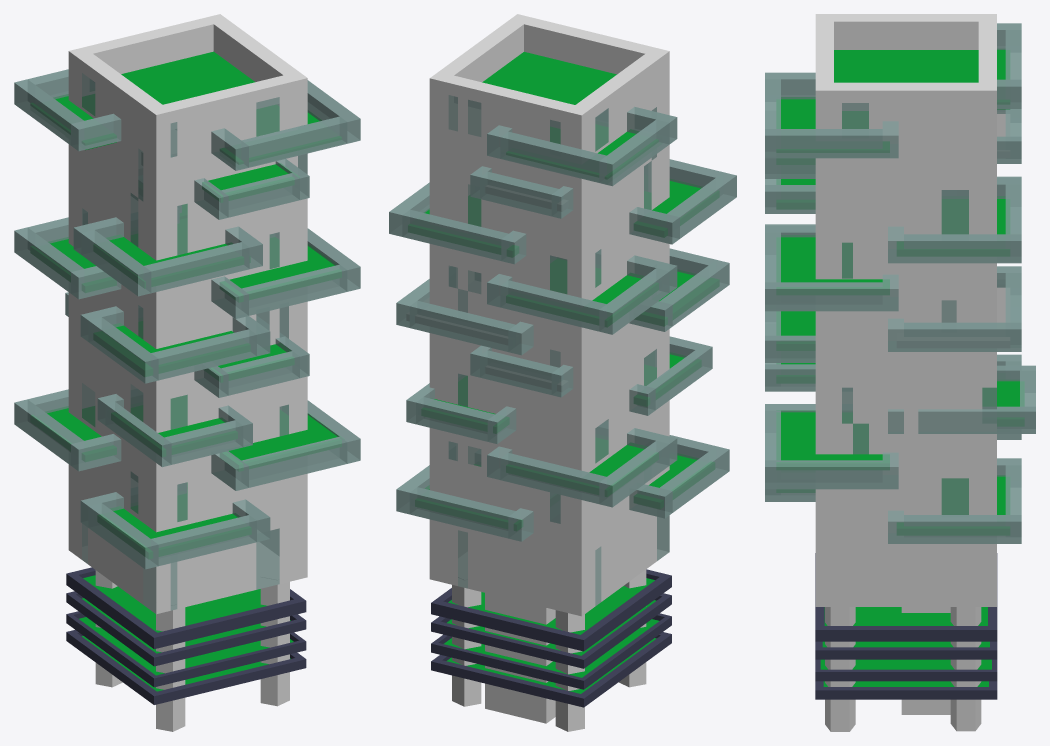
The model's file is VerticalFarm_03.fbx.
3 views of the same model, side by side, from view 1: azimuth 30°, elevation 25°; view 2: azimuth 150°, elevation 25°; view 3: azimuth 270°, elevation 25° (orthographic). The views are drawn at different scales.
Parts seen in each view (by area): view 1: polySurface200; view 2: polySurface200; view 3: polySurface200.
Part boxes in pixels (x1,y1,x2,y2): polySurface200: (14, 14, 360, 731); polySurface200: (389, 14, 736, 731); polySurface200: (765, 14, 1035, 731).
Size of the model in its own units: 0.1097 by 0.2942 by 0.1116.
